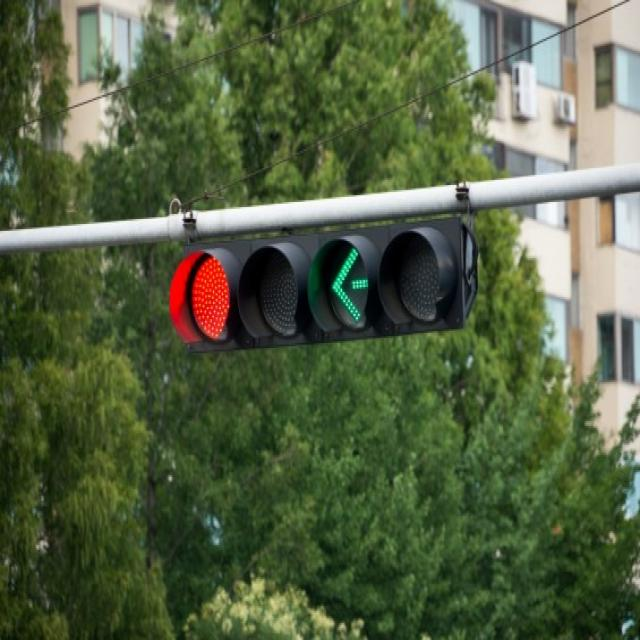Red Light: (172, 248, 232, 341)
